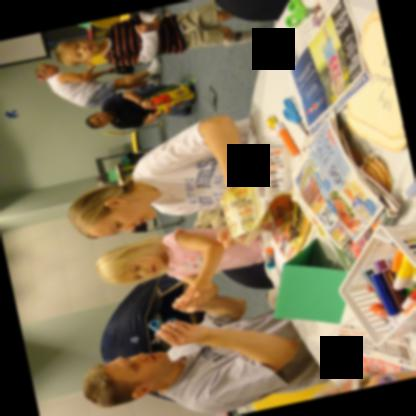backpack: (148, 75, 196, 113)
